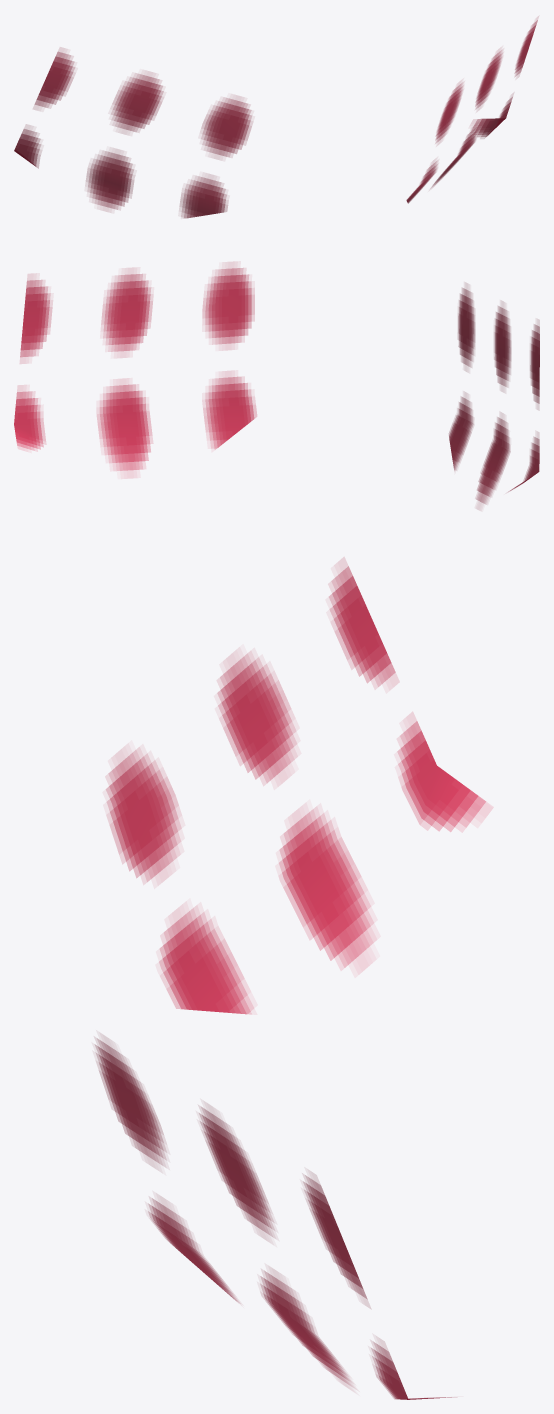
3 views of the same model, one above another, from view 1: azimuth 30°, elevation 25°; view 2: azimuth 150°, elevation 25°; view 3: azimuth 270°, elevation 25° (orthographic). The views are drawn at different scales.
Visible parts, largest first — view 1: ef_510; view 2: ef_510; view 3: ef_510.
Part boxes in pixels (x1,y1,x2,y2): ef_510: (14, 16, 538, 218); ef_510: (14, 262, 539, 509); ef_510: (95, 557, 492, 1399).
Bounding box in the file's own units: 0.6125 × 0.2944 × 0.253.
Materials: 1 (1 with a texture image).
